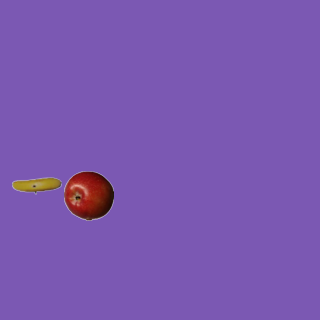Apple Braeburn: (63, 170, 113, 220)
Banana: (11, 160, 61, 210)
